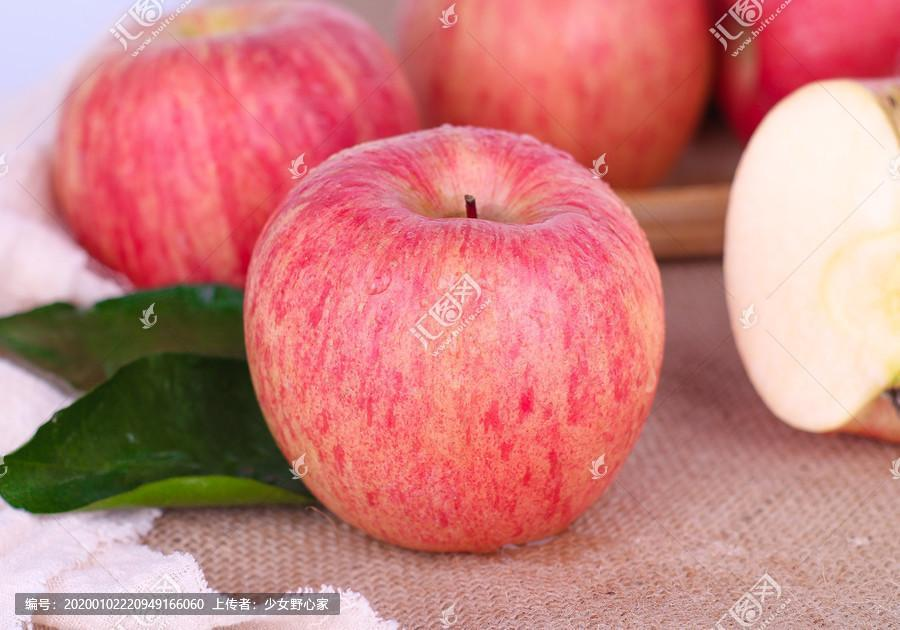apple: (237, 125, 668, 554), (53, 1, 422, 293), (394, 1, 714, 190)
